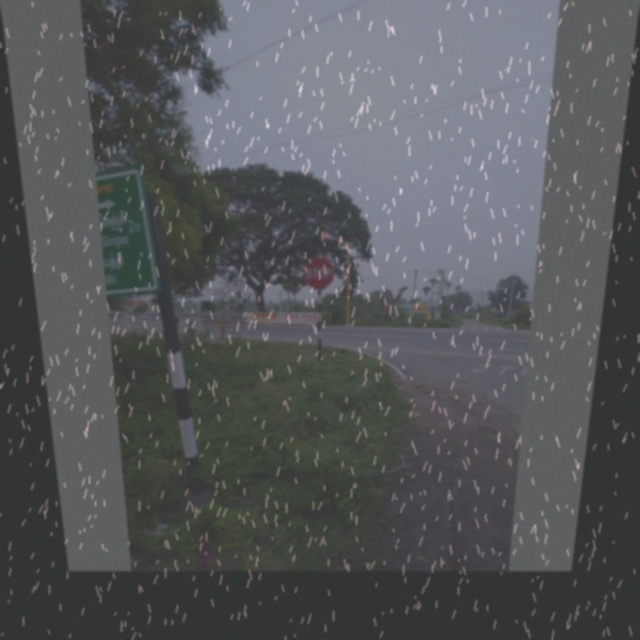Stop: (301, 255, 335, 290)
